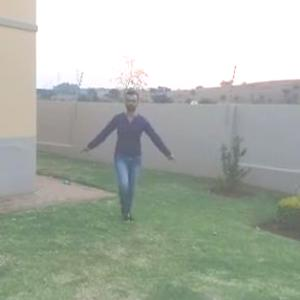land: (77, 83, 184, 219)
